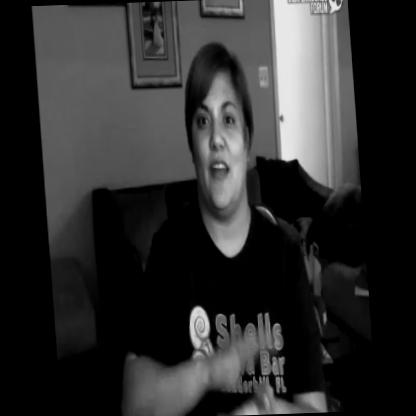NiceToMeetYou: (187, 312, 283, 416)
